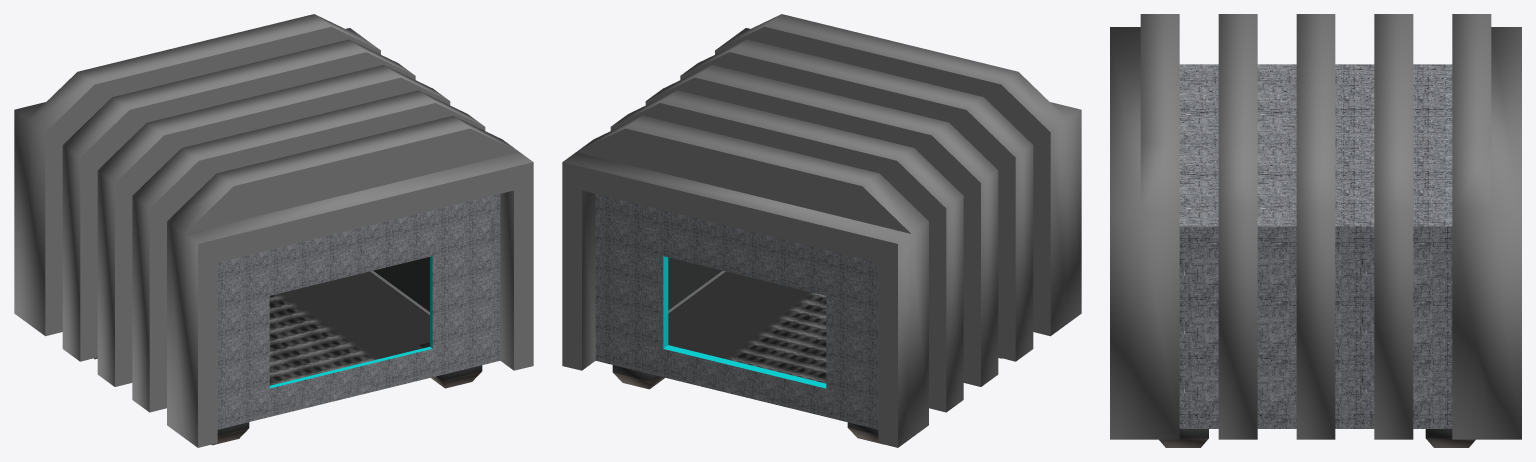
File: HangarExterior.fbx
3 views of the same model, side by side, from view 1: azimuth 30°, elevation 25°; view 2: azimuth 150°, elevation 25°; view 3: azimuth 270°, elevation 25° (orthographic). The views are drawn at different scales.
Parts seen in each view (by area): view 1: HangarExterior_LOD0; view 2: HangarExterior_LOD0; view 3: HangarExterior_LOD0.
Part boxes in pixels (x1,y1,x2,y2): HangarExterior_LOD0: [14, 14, 533, 447]; HangarExterior_LOD0: [562, 14, 1081, 447]; HangarExterior_LOD0: [1110, 14, 1521, 447].
Size of what is drawn, in the model's own units: 6064 by 4575 by 5744.
Materials: 3 (1 with a texture image).
